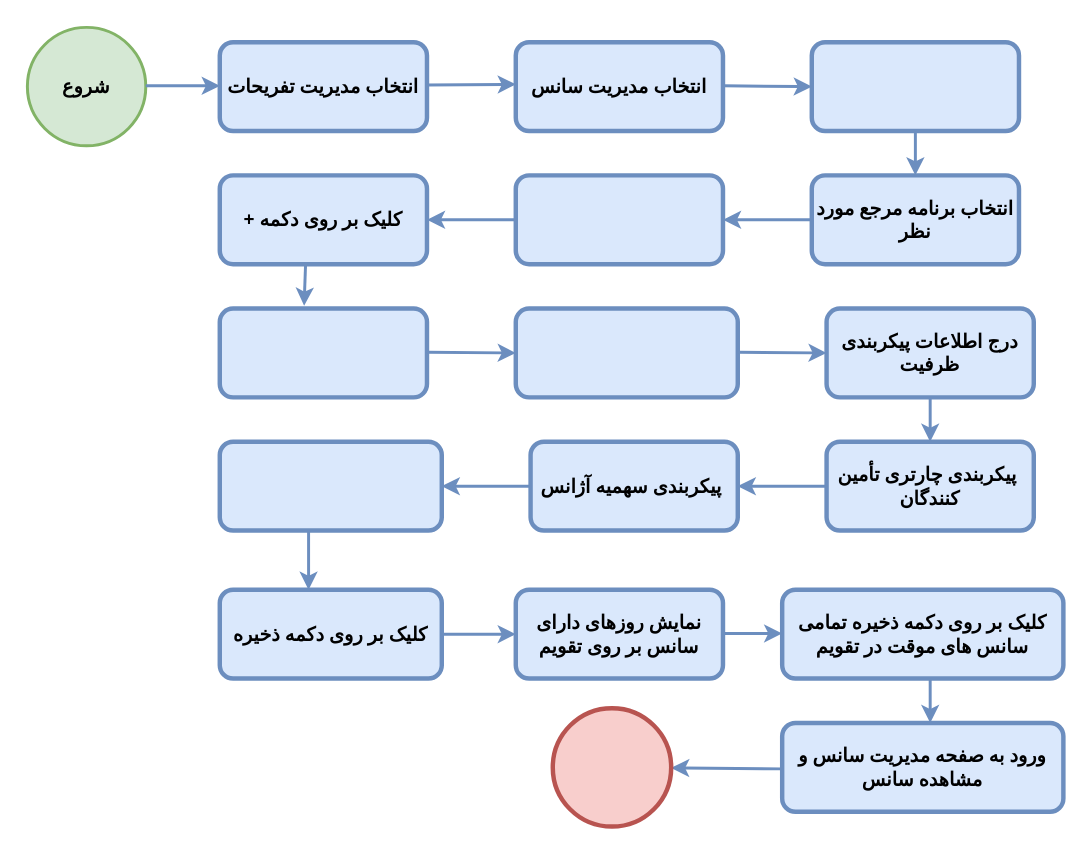
This 1091x854 diagram has some shape labels left out. Here are the shapes that lost their labels. From the top down, the box of each, then its label:
(809, 39, 1020, 132): کلیک بر روی دکمه ایجاد سانس
(513, 172, 724, 266): ورود به صفحه ایجاد سانس
(217, 306, 428, 399): درج اطلاعات پیکربندی تاریخ و زمان
(513, 306, 739, 399): درج اطلاعات پیکربندی گروه کمیسیون و بلیط ها
(217, 439, 443, 532): پیکربندی فیلتر آژانس
(550, 705, 673, 828): پایان
